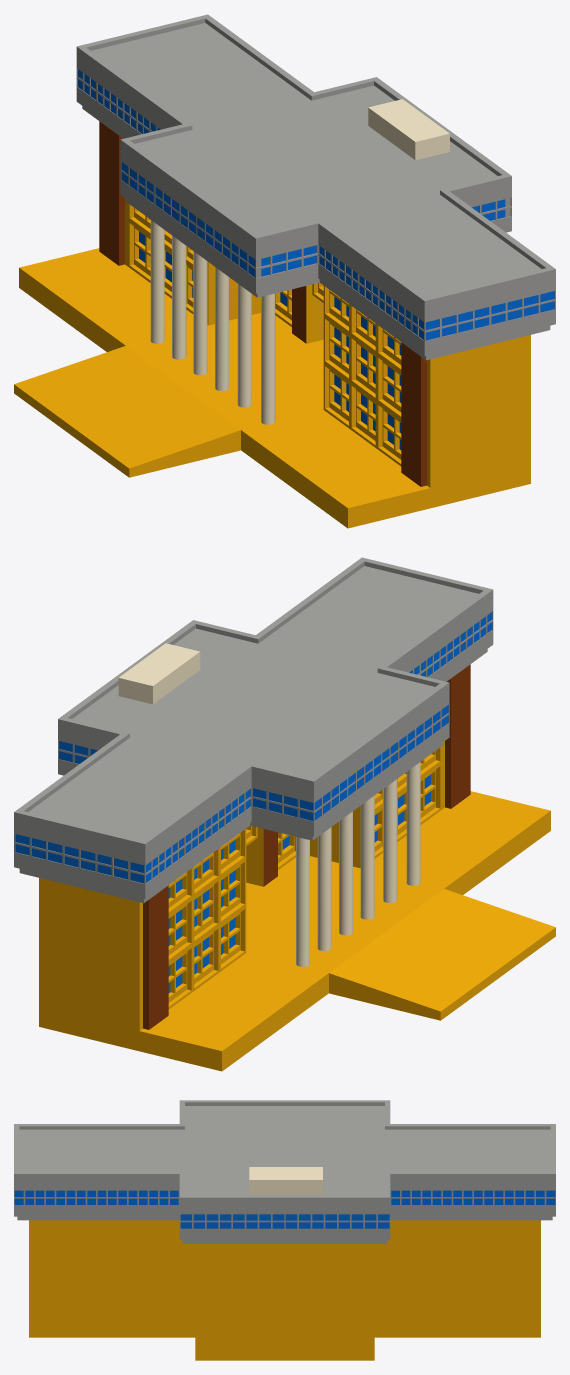
The picture shows the model from 3 angles, top to bottom: view 1: azimuth 30°, elevation 25°; view 2: azimuth 150°, elevation 25°; view 3: azimuth 270°, elevation 25°; orthographic projection. The views are drawn at different scales.
Parts seen in each view (by area): view 1: Cube_11, Cube_10, Cube_17, Cube_18, Cube_12, Cylinder, Cylinder_5, Cylinder_3, Cylinder_1, Cylinder_2, Cylinder_4, Cube_14 (+1 smaller); view 2: Cube_11, Cube_10, Cube_18, Cube_16, Cube_12, Cylinder_1, Cylinder_4, Cylinder_5, Cylinder_2, Cylinder, Cylinder_3, Cube_15 (+1 smaller); view 3: Cube_10, Cube_11, Cube_18, Cube_17, Cube_16, Cube_12.
Part boxes in pixels (left/top/right/bottom): Cube_11: left=76, top=14, right=555, bottom=360; Cube_10: left=14, top=121, right=530, bottom=528; Cube_17: left=319, top=246, right=554, bottom=340; Cube_18: left=121, top=162, right=505, bottom=277; Cube_12: left=368, top=99, right=449, bottom=160; Cylinder: left=261, top=293, right=275, bottom=424; Cylinder_5: left=237, top=283, right=251, bottom=407; Cylinder_3: left=193, top=251, right=207, bottom=375; Cylinder_1: left=150, top=220, right=164, bottom=343; Cylinder_2: left=172, top=235, right=186, bottom=359; Cylinder_4: left=215, top=267, right=228, bottom=390; Cube_14: left=334, top=296, right=401, bottom=449; Cube_11: left=14, top=557, right=493, bottom=903; Cube_10: left=39, top=664, right=555, bottom=1071; Cube_18: left=59, top=705, right=448, bottom=820; Cube_16: left=15, top=789, right=250, bottom=883; Cube_12: left=118, top=643, right=200, bottom=704; Cylinder_1: left=296, top=837, right=309, bottom=966; Cylinder_4: left=360, top=795, right=374, bottom=919; Cylinder_5: left=383, top=779, right=397, bottom=902; Cylinder_2: left=317, top=827, right=331, bottom=950; Cylinder: left=406, top=762, right=420, bottom=885; Cylinder_3: left=339, top=811, right=352, bottom=935; Cube_15: left=168, top=839, right=235, bottom=992; Cube_10: left=29, top=1220, right=540, bottom=1360; Cube_11: left=14, top=1100, right=555, bottom=1243; Cube_18: left=180, top=1214, right=389, bottom=1228; Cube_17: left=14, top=1190, right=178, bottom=1204; Cube_16: left=391, top=1190, right=555, bottom=1204; Cube_12: left=249, top=1167, right=322, bottom=1194.
Bounding box in the file's own units: 613 × 365 × 992.
